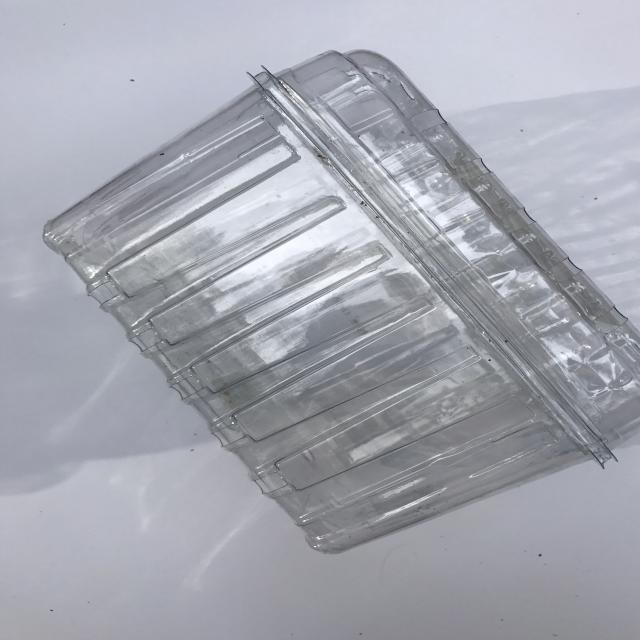plastic: (41, 48, 640, 554)
